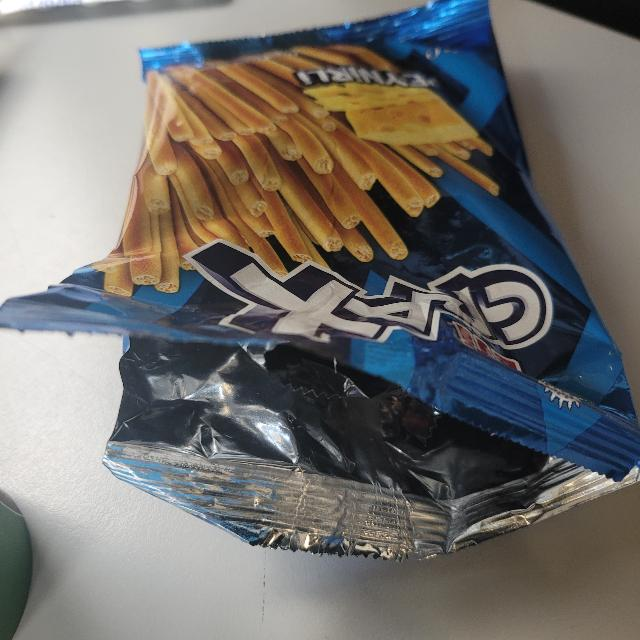Plastik: (89, 0, 640, 581)
